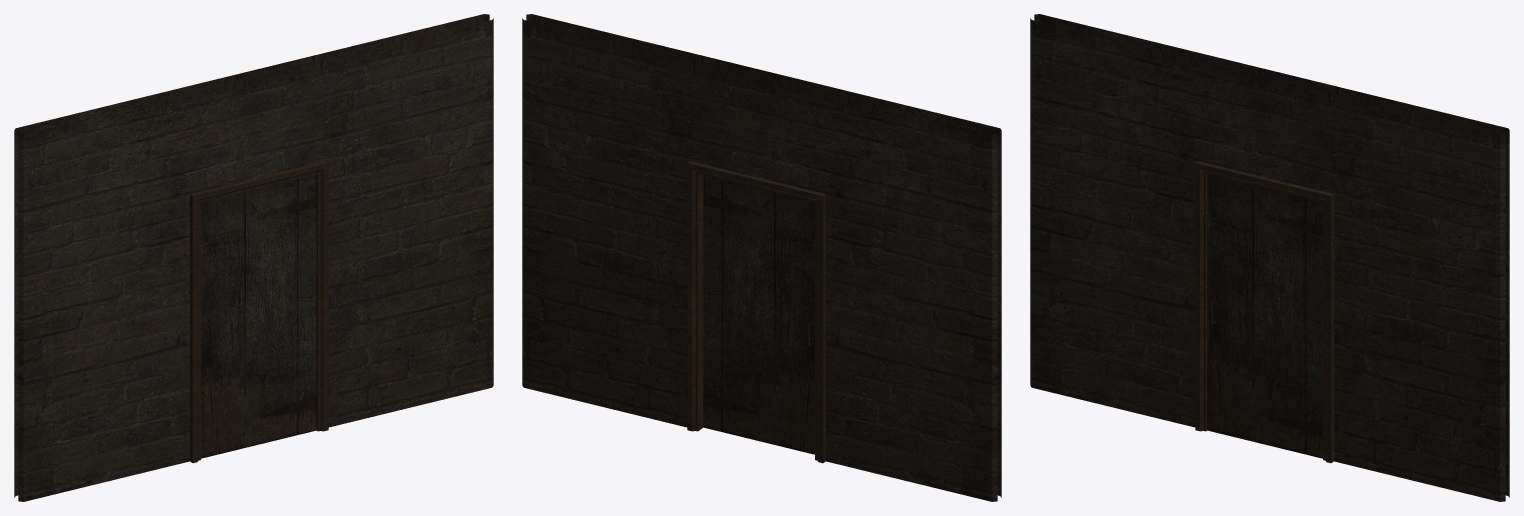
File: doorway_1_plain.fbx
The picture shows the model from 3 angles, left to right: view 1: azimuth 30°, elevation 25°; view 2: azimuth 150°, elevation 25°; view 3: azimuth 330°, elevation 25°; orthographic projection.
Parts seen in each view (by area): view 1: doorway_1_plain, door_5; view 2: doorway_1_plain, door_5; view 3: doorway_1_plain, door_5.
Part boxes in pixels (x1,y1,x2,y2): doorway_1_plain: (14, 14, 493, 501); door_5: (201, 174, 316, 458); doorway_1_plain: (522, 14, 1001, 501); door_5: (703, 175, 814, 454); doorway_1_plain: (1030, 14, 1509, 501); door_5: (1207, 174, 1322, 458).
Size of the model in its own units: 4.06 by 0.225 by 3.
